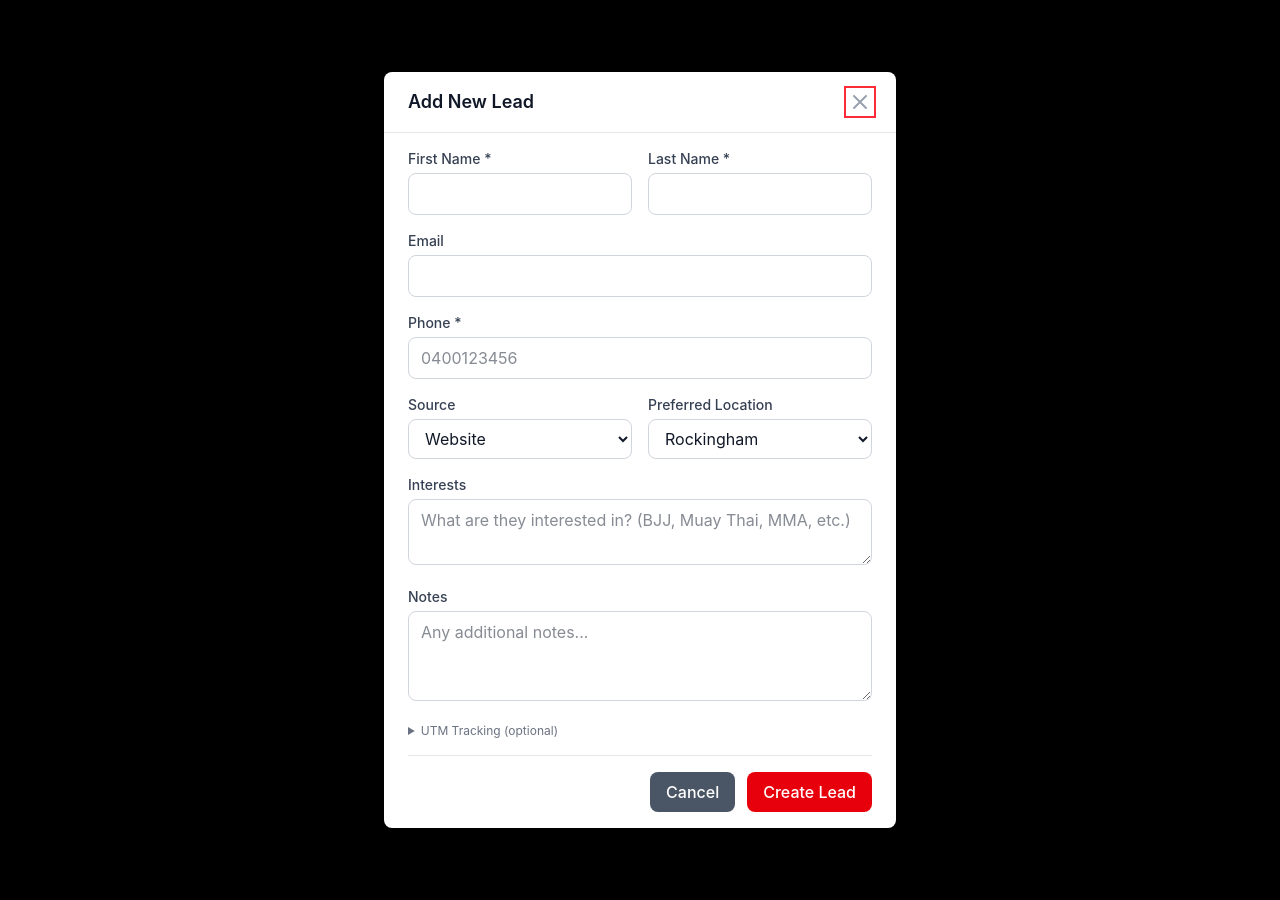
Test case: AddLeadModal › shows validation errors on empty submit
Click the button "Create Lead": (810,792) [747,772,872,812]
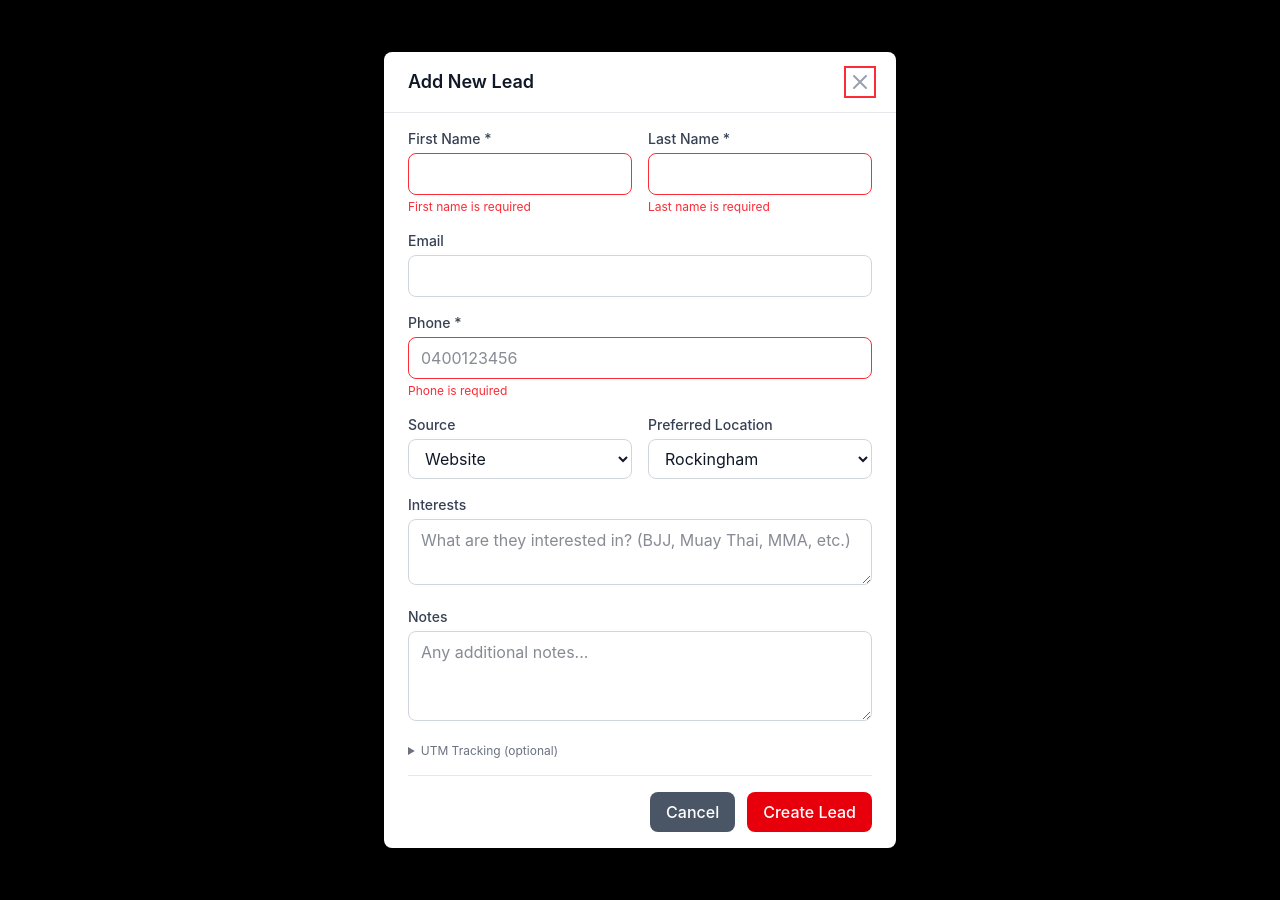
Expected: the text "First name is required" is shown, [408,199,531,214]
Expected: the text "Last name is required" is shown, [648,199,770,214]
Expected: the text "Phone is required" is shown, [408,383,507,398]
